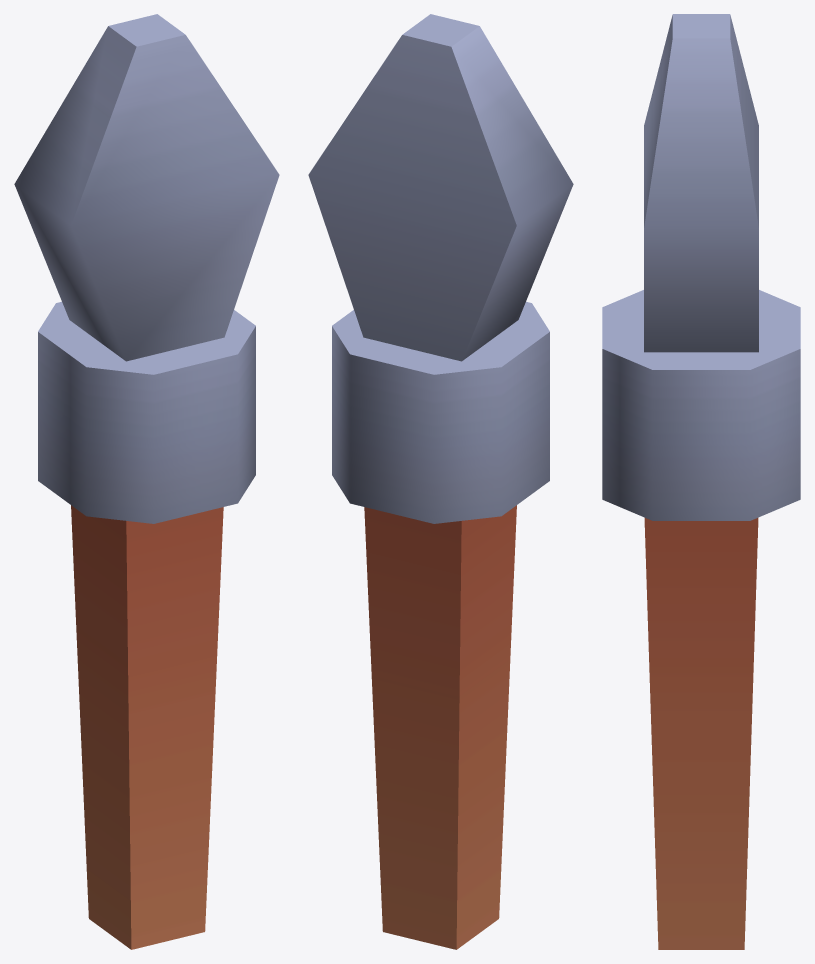
File: p-mini-weapon-spear.glb
The picture shows the model from 3 angles, left to right: view 1: azimuth 30°, elevation 25°; view 2: azimuth 150°, elevation 25°; view 3: azimuth 270°, elevation 25°; orthographic projection.
Parts seen in each view (by area): view 1: weapon-spear; view 2: weapon-spear; view 3: weapon-spear.
Boxes of the visible parts, box(x1,y1,x2,y2) form: weapon-spear: box(14, 14, 279, 949); weapon-spear: box(308, 14, 573, 949); weapon-spear: box(602, 14, 800, 949).
Bounding box in the file's own units: 0.1463 × 0.6 × 0.119.
Materials: 1 (1 with a texture image).
